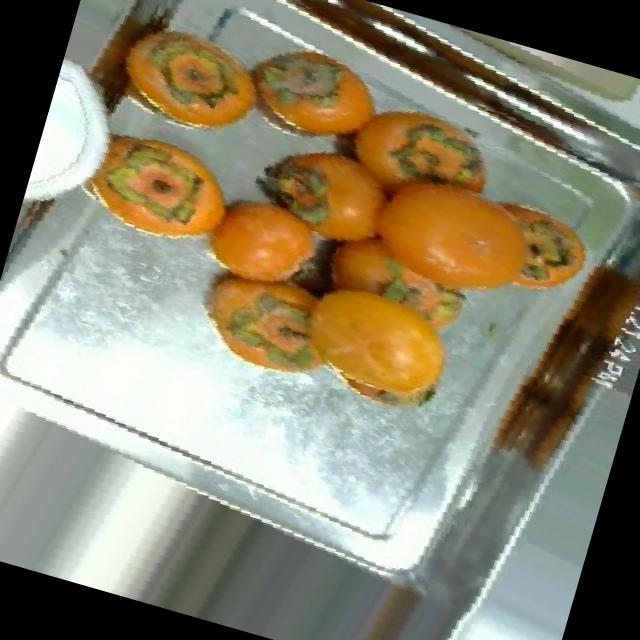Fruit: (278, 254, 480, 434), (83, 0, 293, 162), (214, 7, 414, 176), (56, 106, 248, 267)
